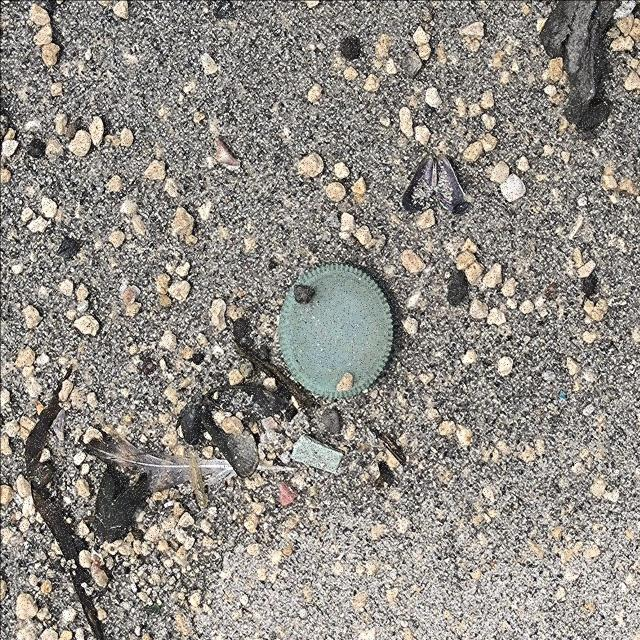plastic_waste: (277, 261, 397, 402)
